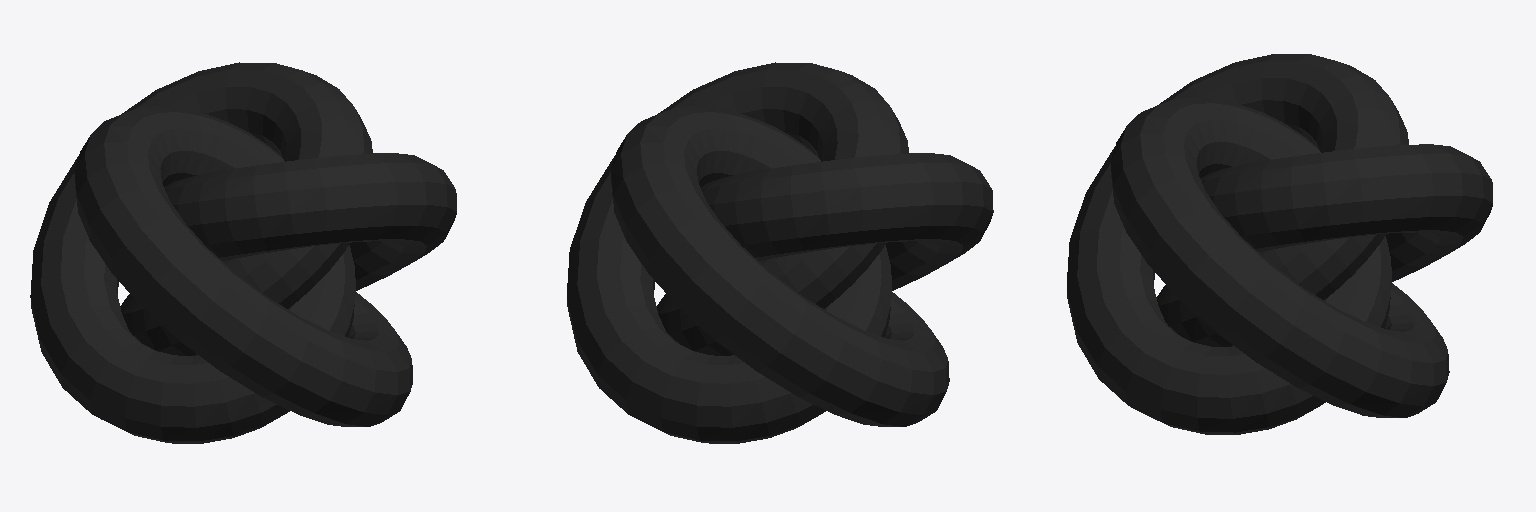
Rendered from TestTorus.obj.
3 renders of one model, left to right at view 1: azimuth 30°, elevation 25°; view 2: azimuth 150°, elevation 25°; view 3: azimuth 270°, elevation 25°, orthographic.
Visible parts, largest first — view 1: Torus_Knot001; view 2: Torus_Knot001; view 3: Torus_Knot001.
Part boxes in pixels (x1,y1,x2,y2): Torus_Knot001: (30,62,456,443); Torus_Knot001: (567,62,993,443); Torus_Knot001: (1067,54,1492,434).
Bounding box in the file's own units: 3.91 × 2.86 × 4.